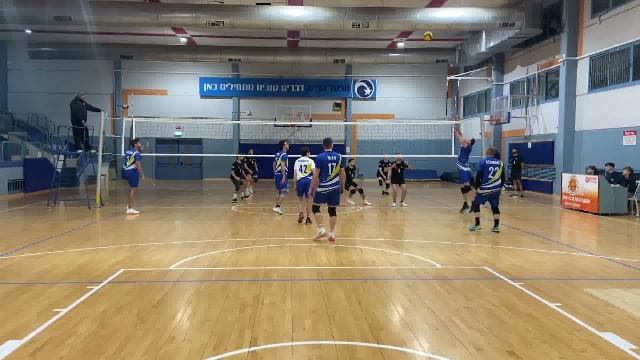ball: (424, 29, 435, 42)
